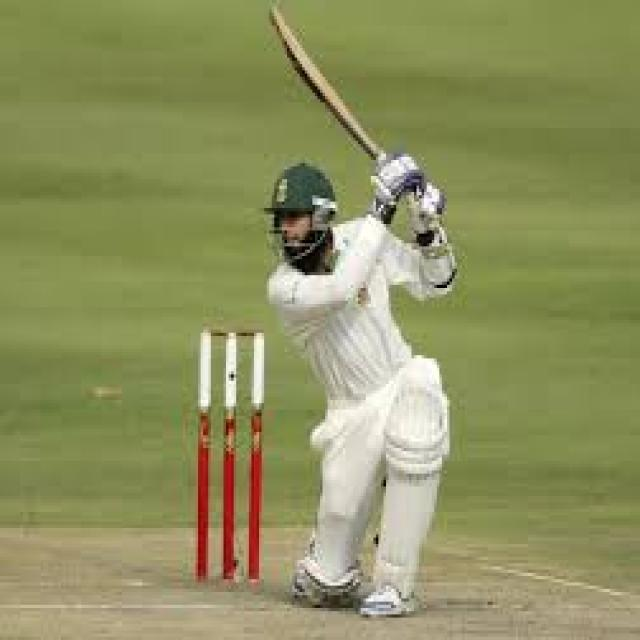toe: (259, 3, 302, 54)
